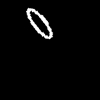chain: (26, 8, 51, 38)
